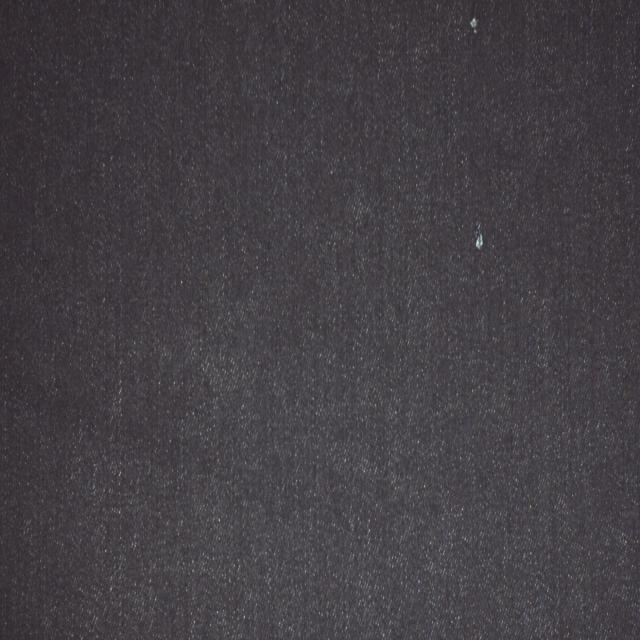Knot: (476, 223, 486, 250), (470, 16, 479, 32)
